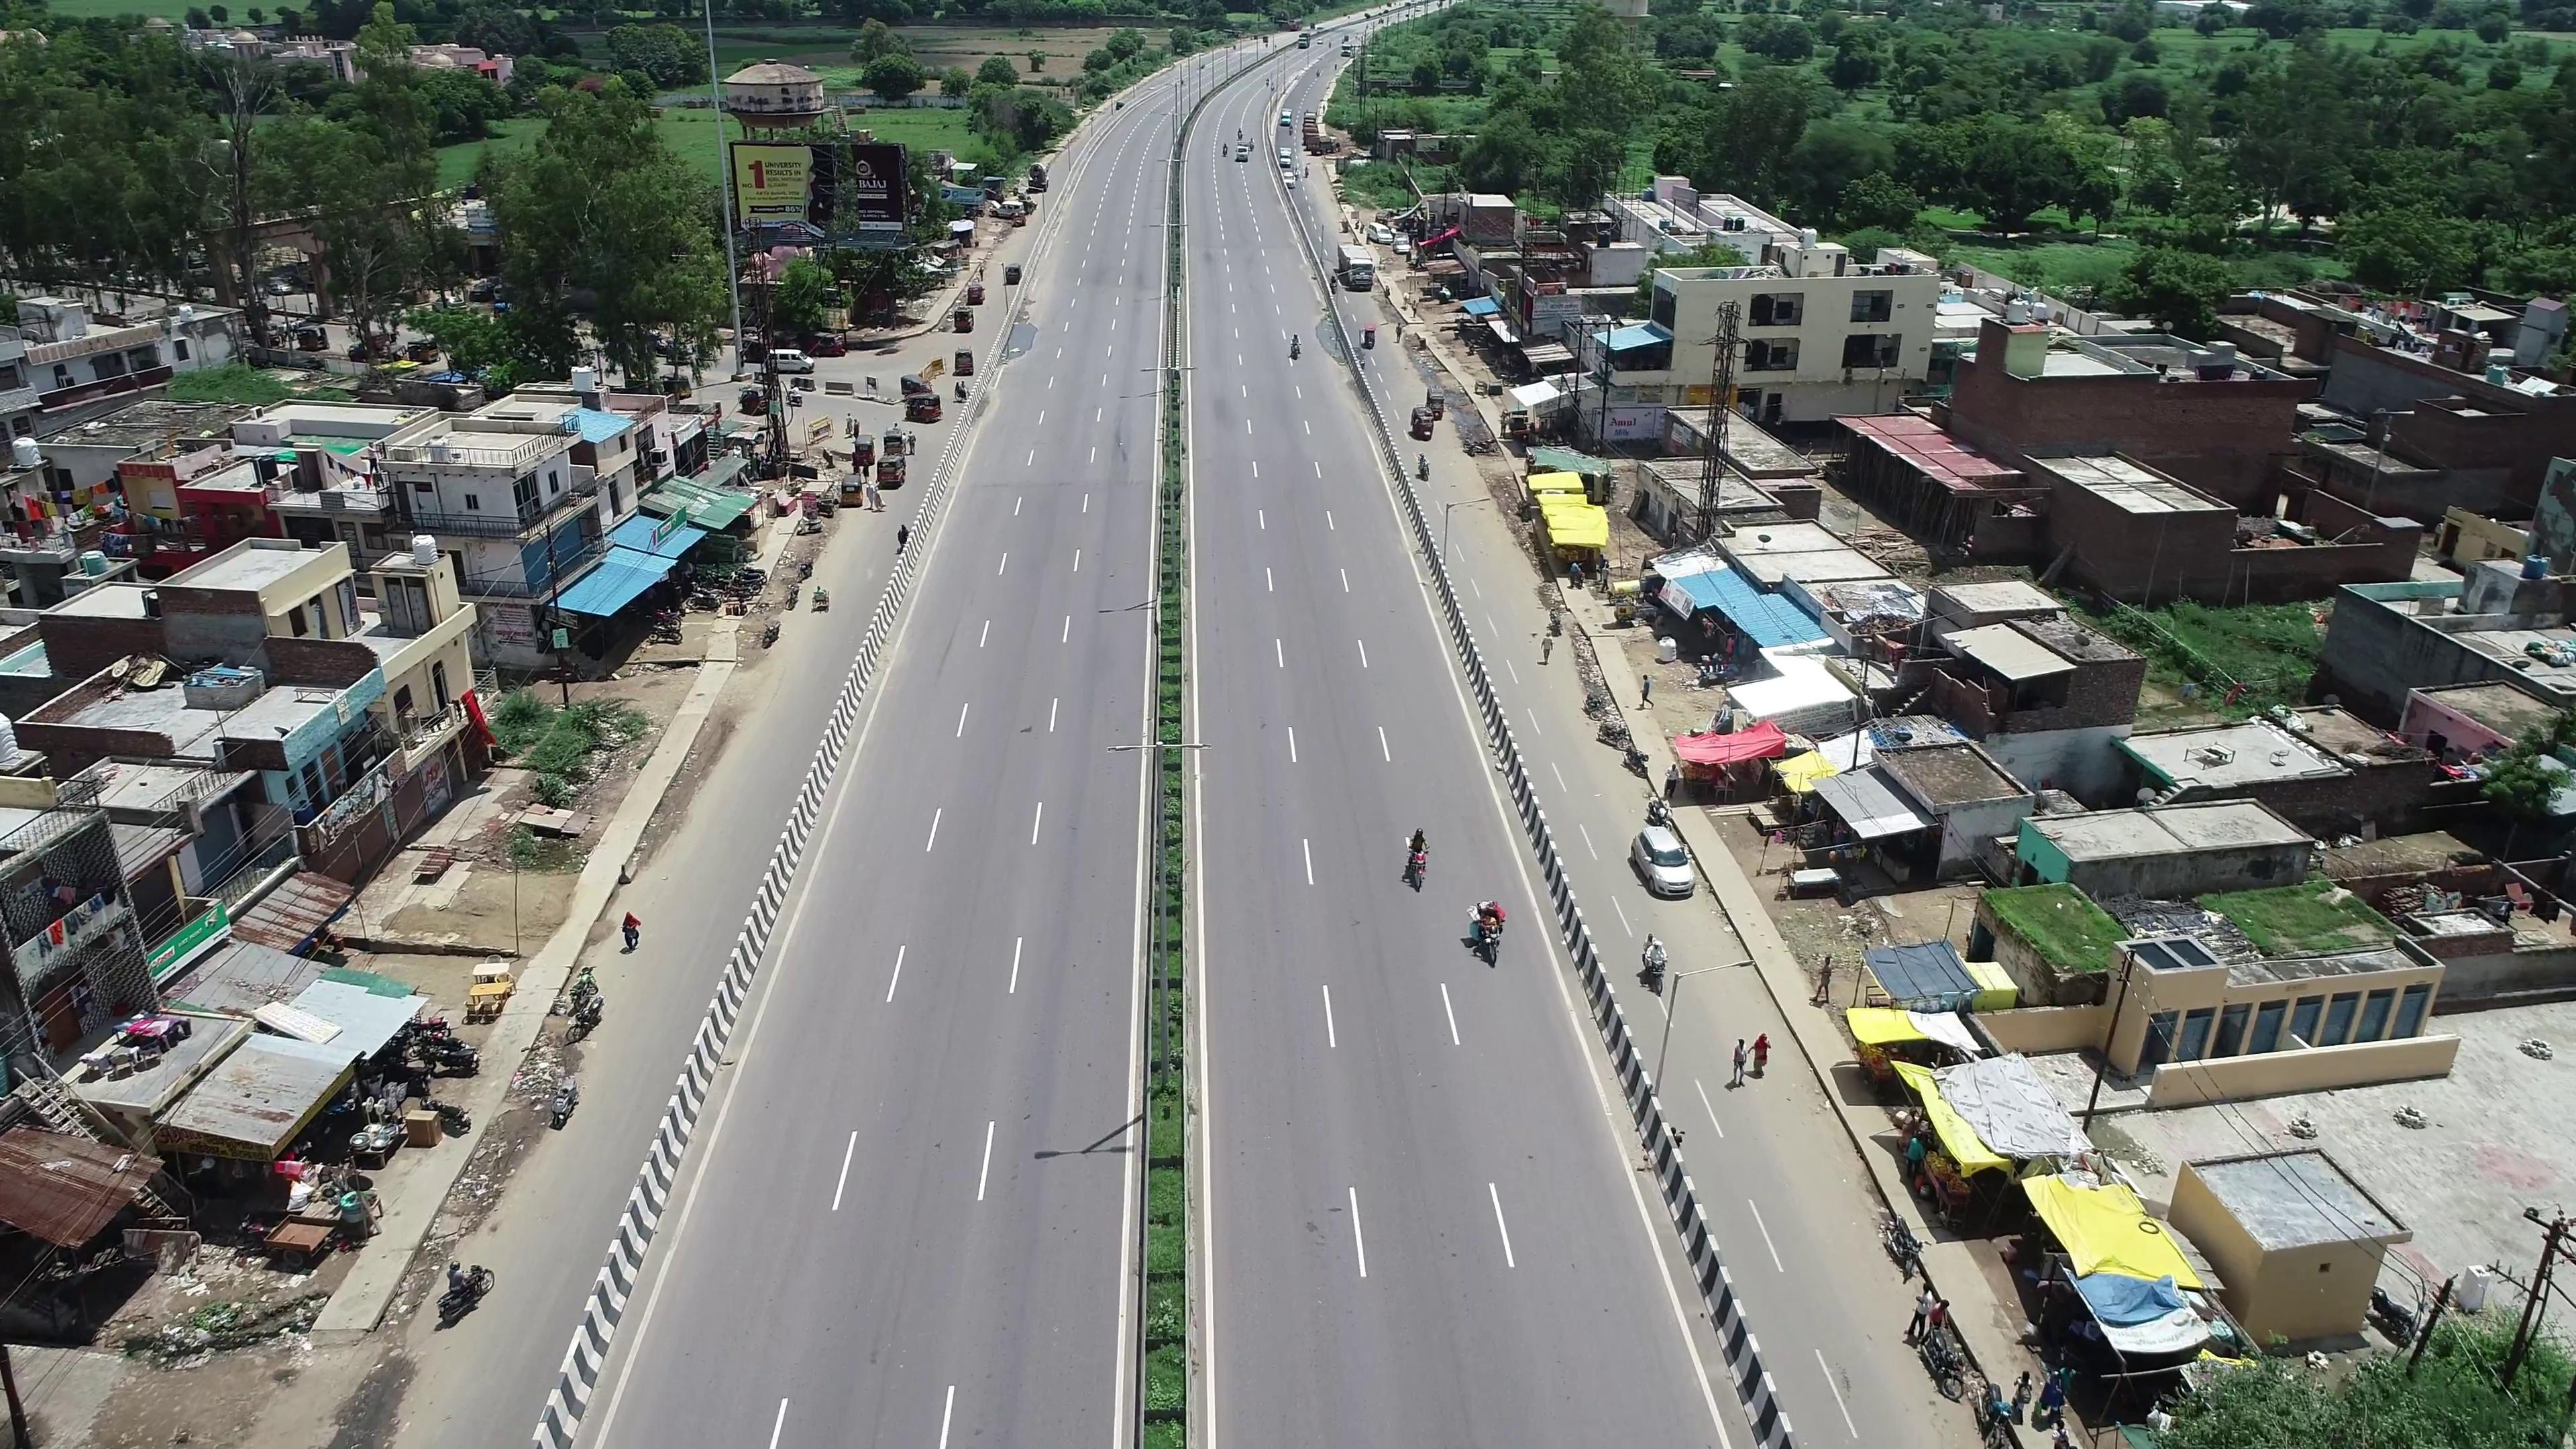Waterlogging: (1005, 306, 1042, 368), (1315, 317, 1341, 364)
